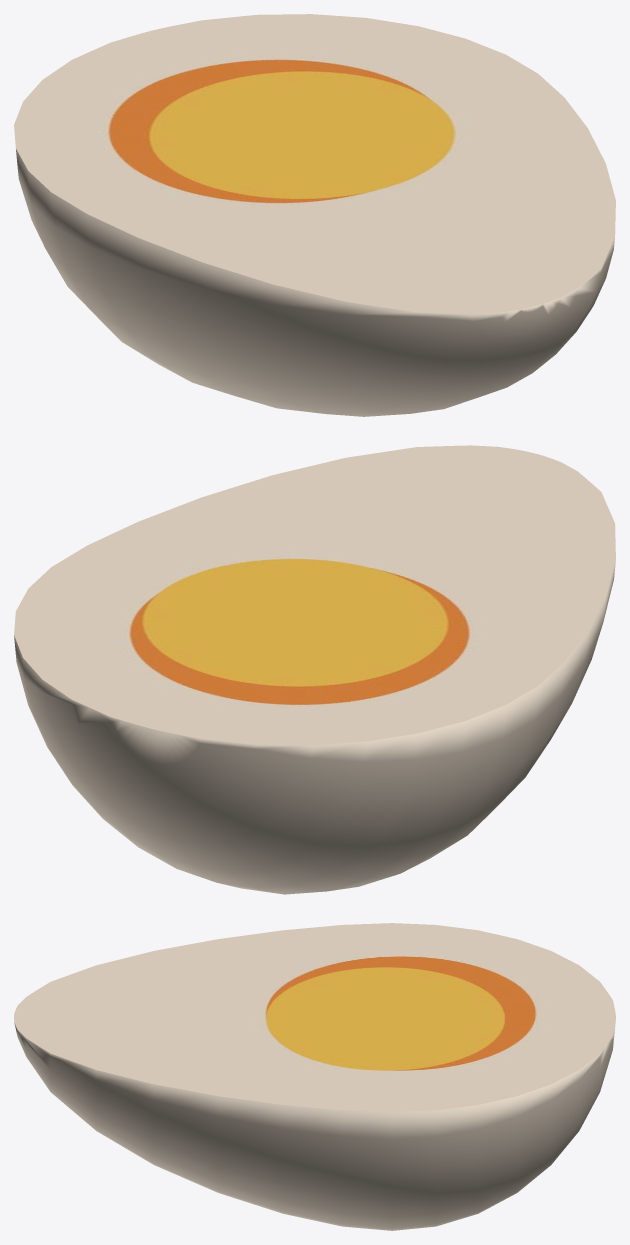
Rendered from egg slice 2.fbx.
3 renders of one model, top to bottom at view 1: azimuth 30°, elevation 25°; view 2: azimuth 150°, elevation 25°; view 3: azimuth 270°, elevation 25°, orthographic. The views are drawn at different scales.
Parts seen in each view (by area): view 1: Sphere.001; view 2: Sphere.001; view 3: Sphere.001.
Part boxes in pixels (bbox=[...]): Sphere.001: bbox=[14, 14, 615, 416]; Sphere.001: bbox=[14, 445, 615, 894]; Sphere.001: bbox=[14, 923, 615, 1230].
Bounding box in the file's own units: 370 × 175 × 498.
1 material, 1 textured.
